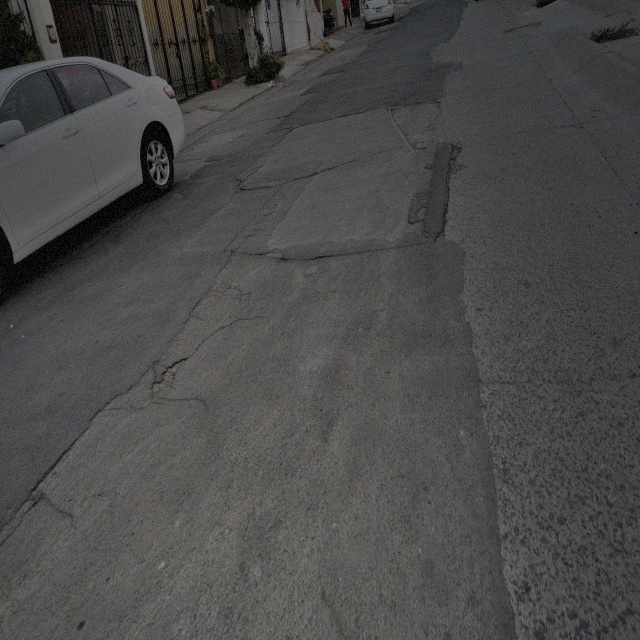pothole: (152, 358, 186, 396), (430, 230, 446, 243)
